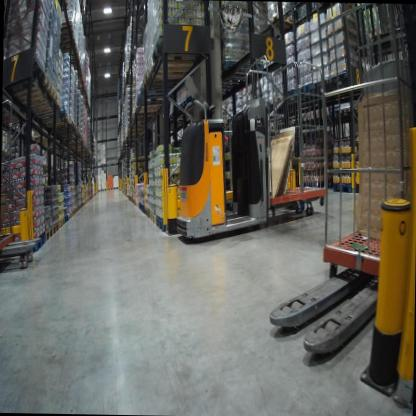pallet: (147, 27, 209, 65), (9, 55, 45, 95), (141, 62, 194, 87), (16, 72, 54, 105), (140, 77, 194, 99), (23, 82, 59, 110), (36, 105, 67, 128), (134, 89, 172, 107), (327, 67, 356, 90), (267, 14, 304, 31), (32, 97, 64, 116), (296, 78, 315, 99), (31, 231, 46, 252), (58, 20, 75, 38), (313, 74, 329, 91), (279, 87, 296, 102), (156, 214, 166, 234), (328, 104, 342, 118), (56, 0, 72, 11), (339, 102, 352, 115), (51, 217, 59, 236), (45, 224, 53, 242), (350, 102, 364, 112), (57, 215, 65, 231), (61, 213, 69, 228), (144, 206, 151, 220), (150, 210, 155, 225), (141, 202, 146, 216), (138, 198, 143, 212), (100, 187, 107, 192), (136, 196, 139, 206), (113, 184, 118, 190), (106, 187, 113, 190), (97, 188, 101, 193)
pallet_truck: (171, 72, 279, 246)
